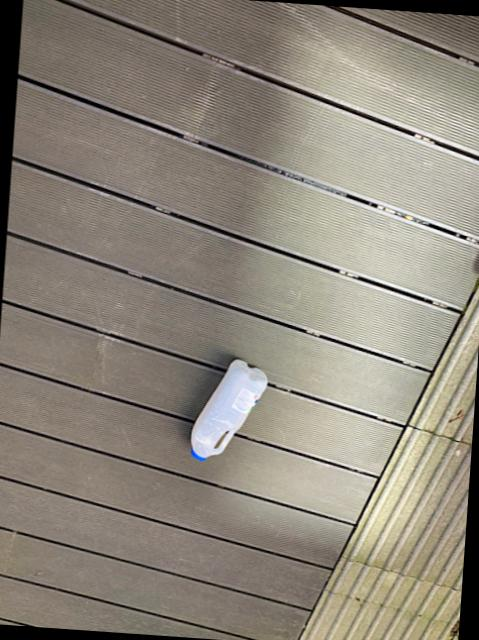plastic: (188, 361, 264, 461)
